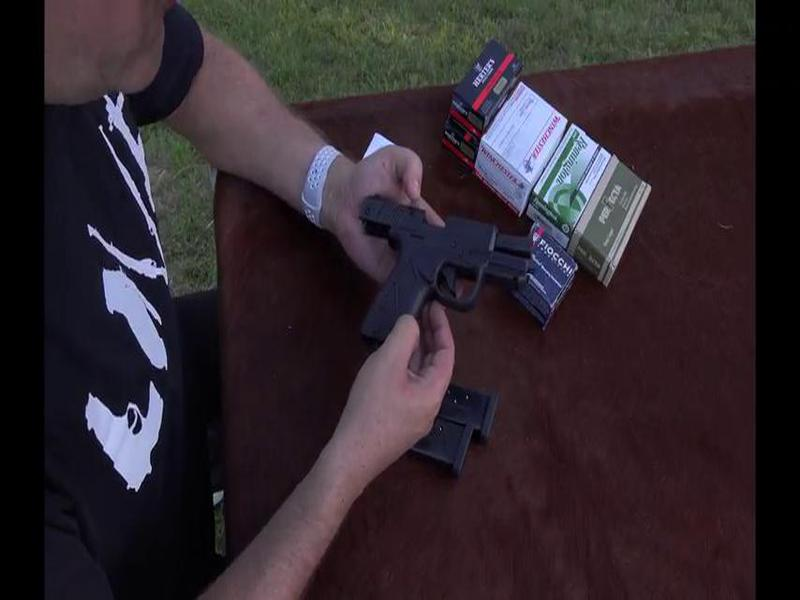Pistola: (344, 194, 537, 363)
